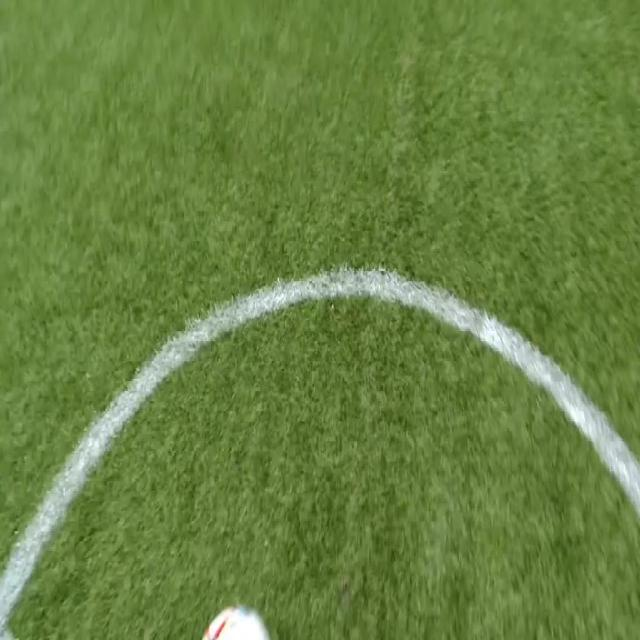ball: (200, 603, 270, 640)
